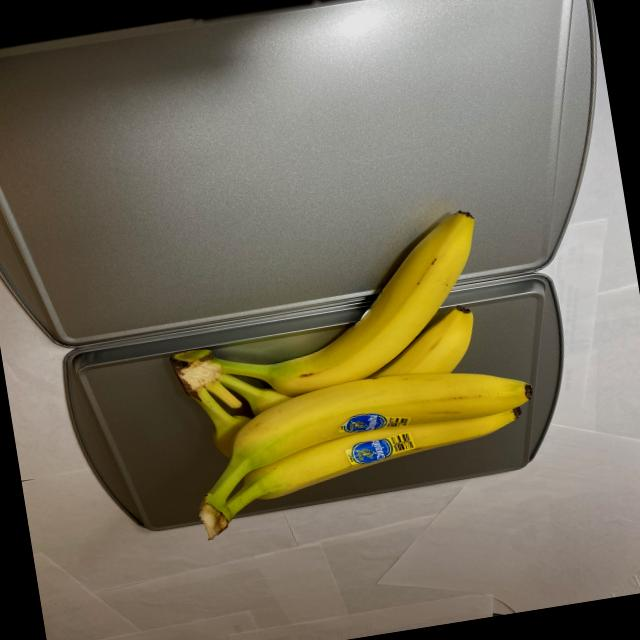banana: (144, 197, 550, 546)
